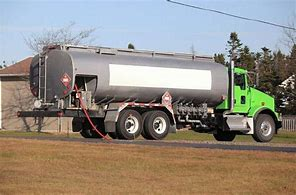oil truck: (25, 31, 286, 155)
